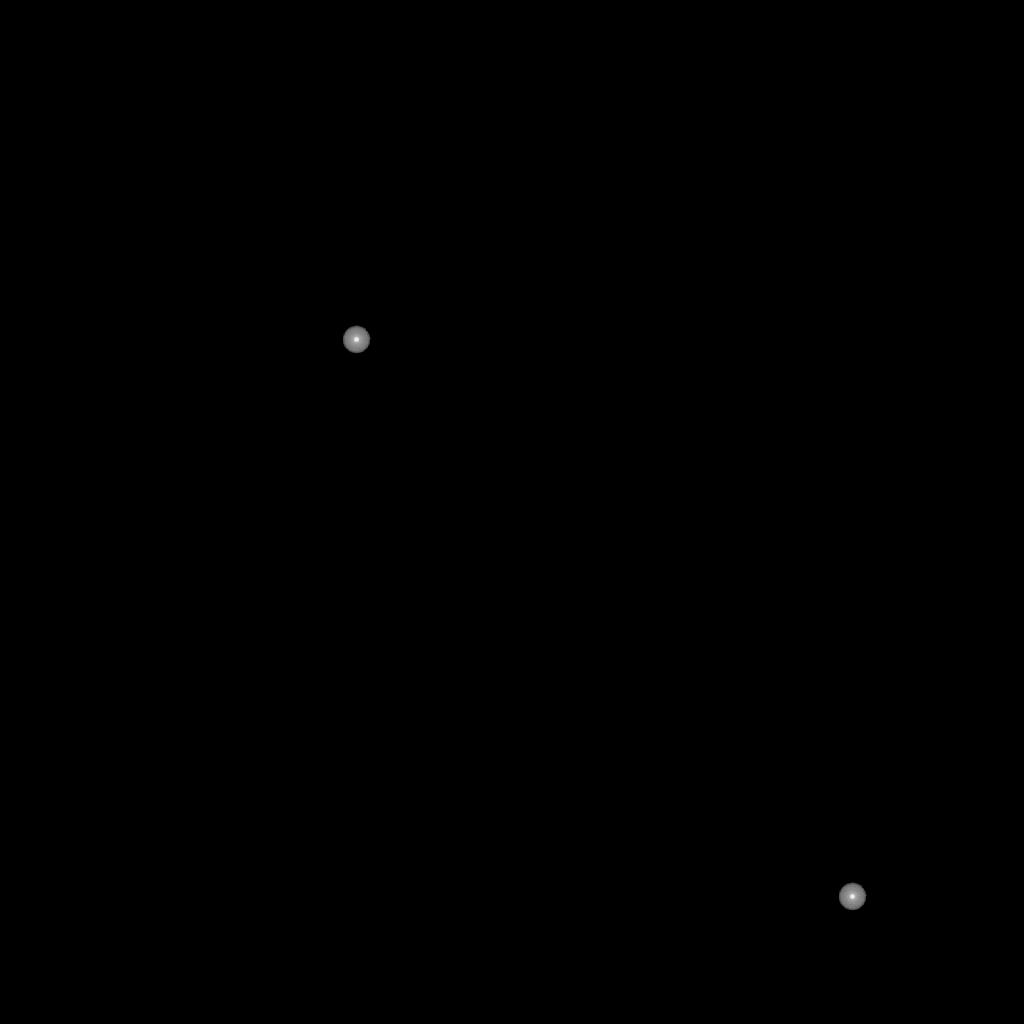depth:-10: (838, 883, 866, 911), (342, 326, 370, 354)
